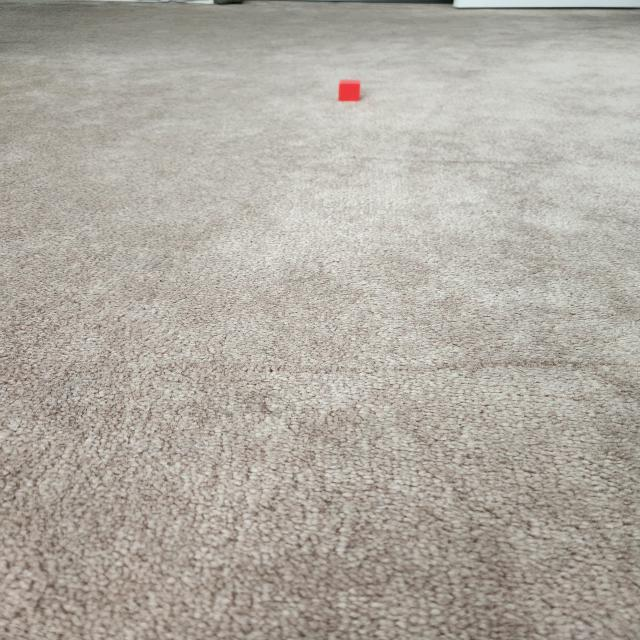red cube: (336, 79, 362, 104)
